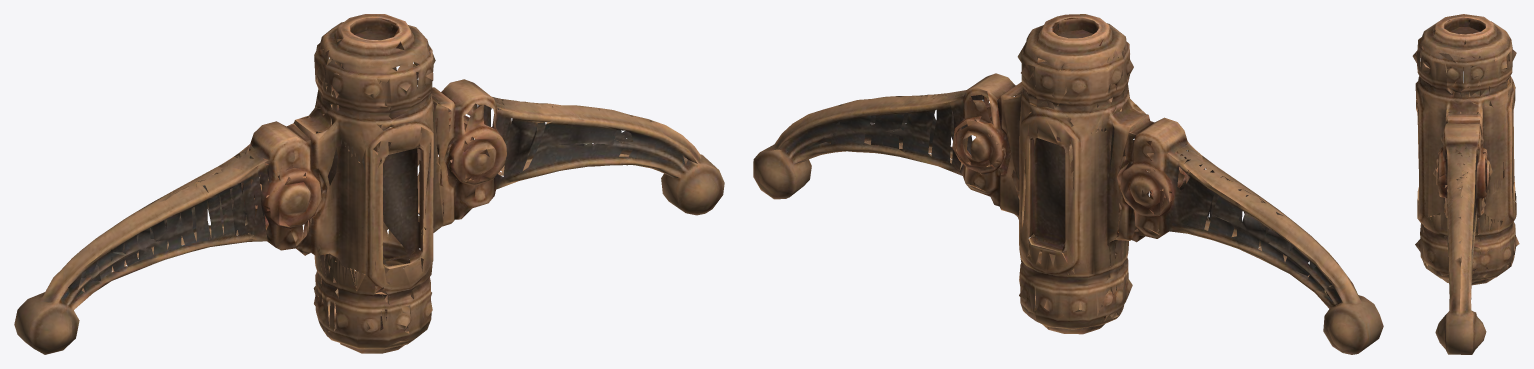
3 views of the same model, side by side, from view 1: azimuth 30°, elevation 25°; view 2: azimuth 150°, elevation 25°; view 3: azimuth 270°, elevation 25° (orthographic). The views are drawn at different scales.
Parts seen in each view (by area): view 1: steampunk_middle_handguard_baked; view 2: steampunk_middle_handguard_baked; view 3: steampunk_middle_handguard_baked.
Part boxes in pixels (left/top/right/bottom): steampunk_middle_handguard_baked: left=14, top=14, right=724, bottom=354; steampunk_middle_handguard_baked: left=753, top=14, right=1383, bottom=354; steampunk_middle_handguard_baked: left=1412, top=14, right=1519, bottom=354.
Bounding box in the file's own units: 0.275 × 0.1209 × 0.0473.
1 material, 1 textured.
